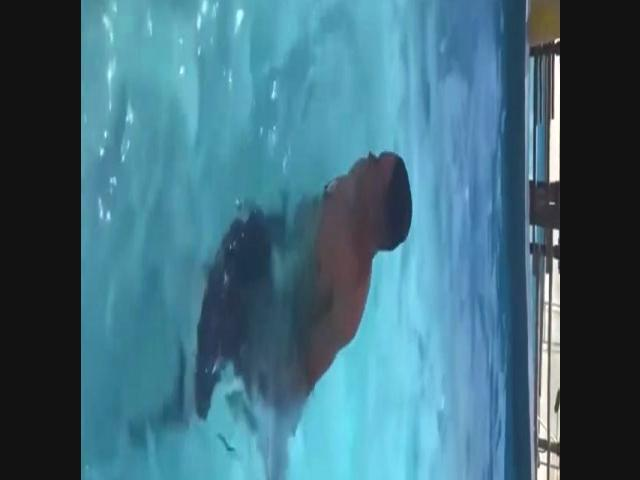swimming: (224, 115, 430, 480)
